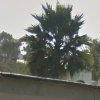Palm tree: (22, 4, 86, 79)
